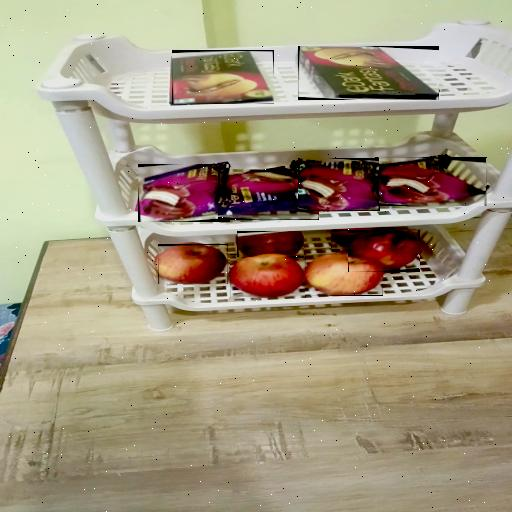Apple: (230, 254, 306, 298), (305, 254, 383, 296), (349, 230, 419, 272), (158, 244, 228, 284), (237, 231, 304, 257), (331, 230, 389, 249)
Choco Fills: (298, 46, 439, 100), (172, 50, 274, 104)
Choco Pie: (376, 157, 488, 206), (138, 164, 230, 222), (218, 169, 319, 220), (299, 160, 379, 211)
